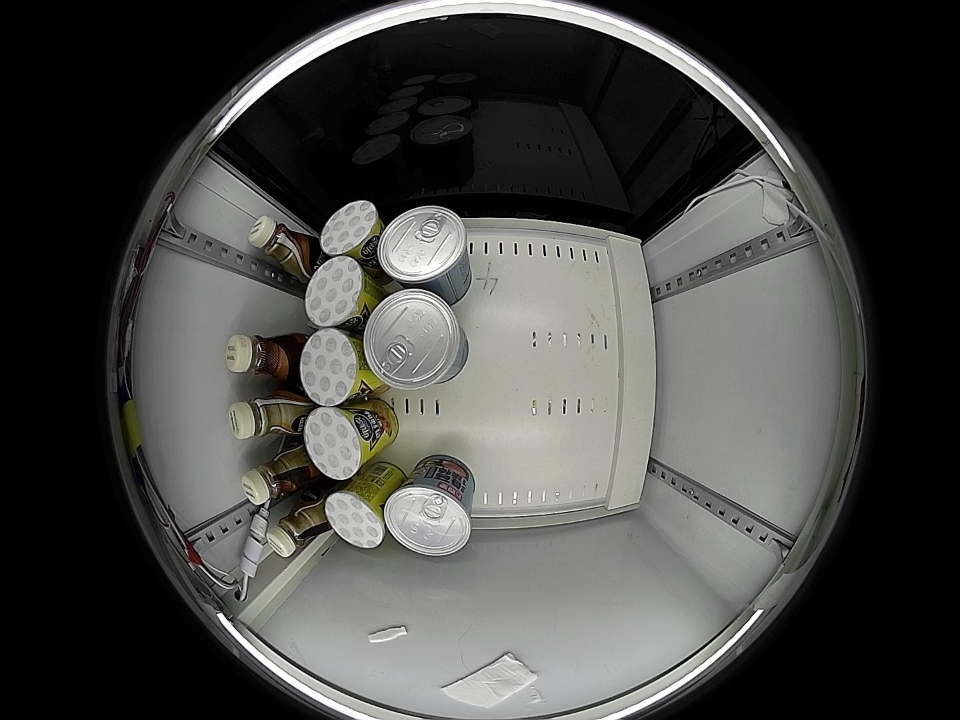haitai: (362, 288, 468, 392), (377, 205, 469, 290), (384, 472, 474, 557)
kafei: (240, 442, 314, 508), (248, 216, 318, 279), (226, 332, 302, 385), (268, 494, 330, 558), (227, 390, 305, 440)
kebike: (302, 405, 374, 481), (298, 328, 367, 406), (304, 257, 376, 329), (325, 481, 390, 549), (319, 200, 384, 263)
